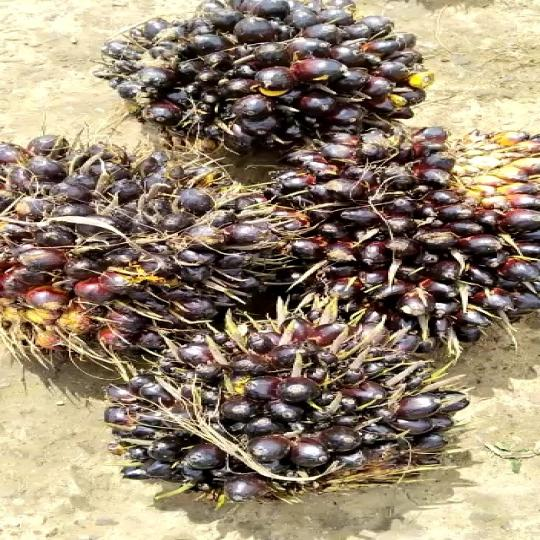mentah: (117, 295, 463, 511), (0, 117, 297, 359), (256, 119, 540, 362), (111, 0, 434, 152)
